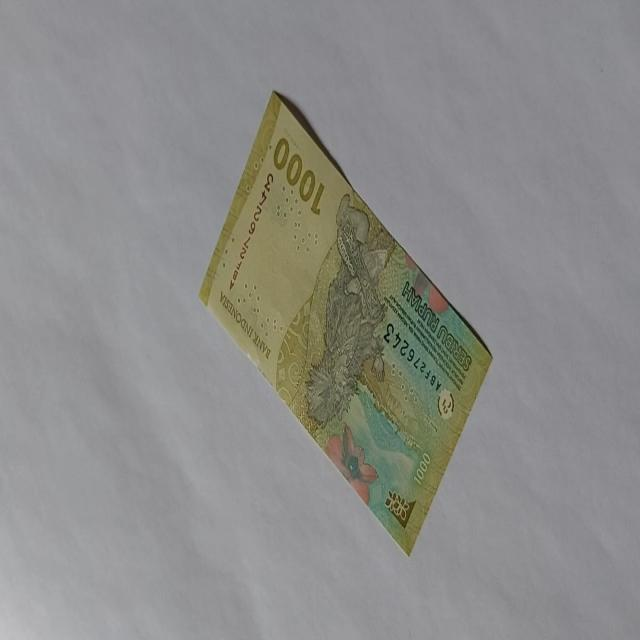seribu rupiah kertas: (198, 88, 494, 558)
